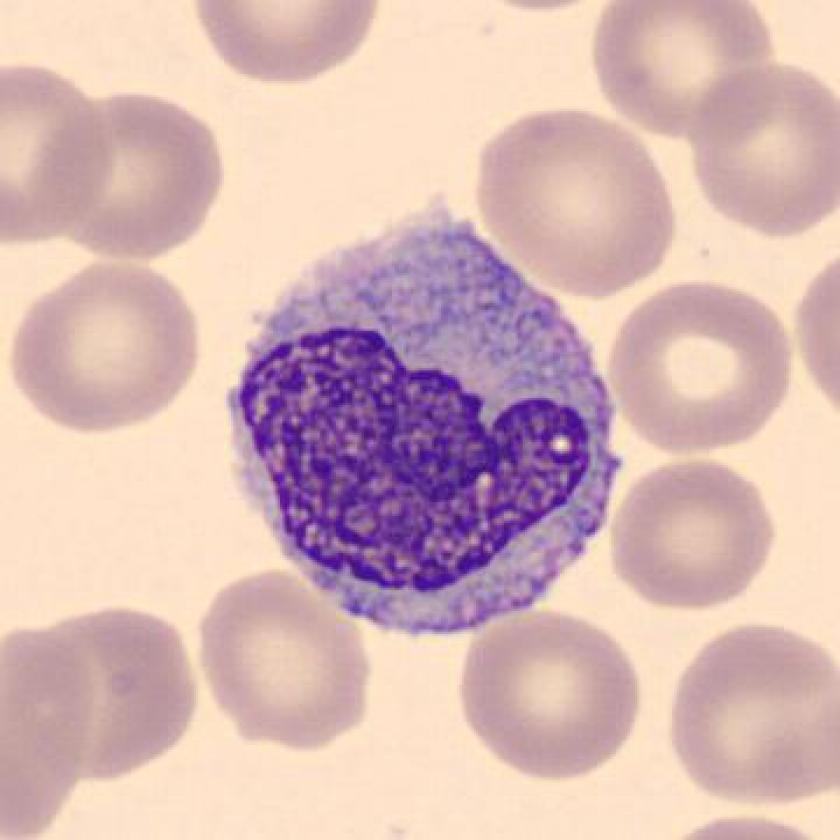monocyte: (195, 193, 652, 658)
